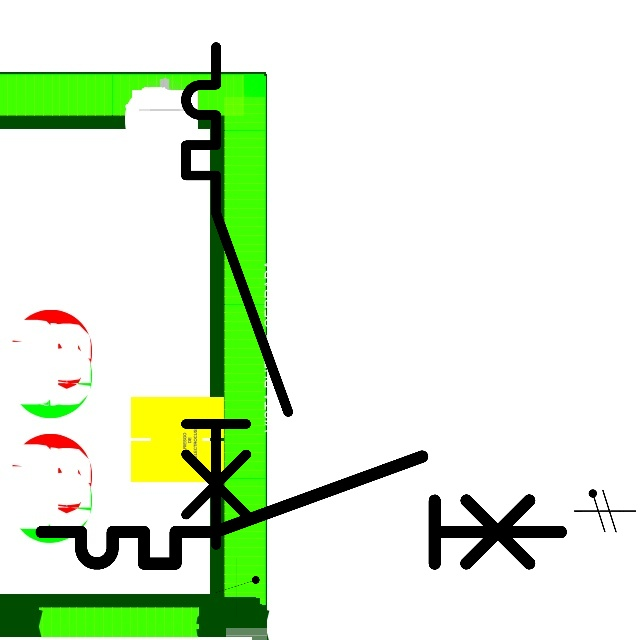interruptor_termomagnetico: (28, 443, 574, 577), (173, 34, 301, 557)
